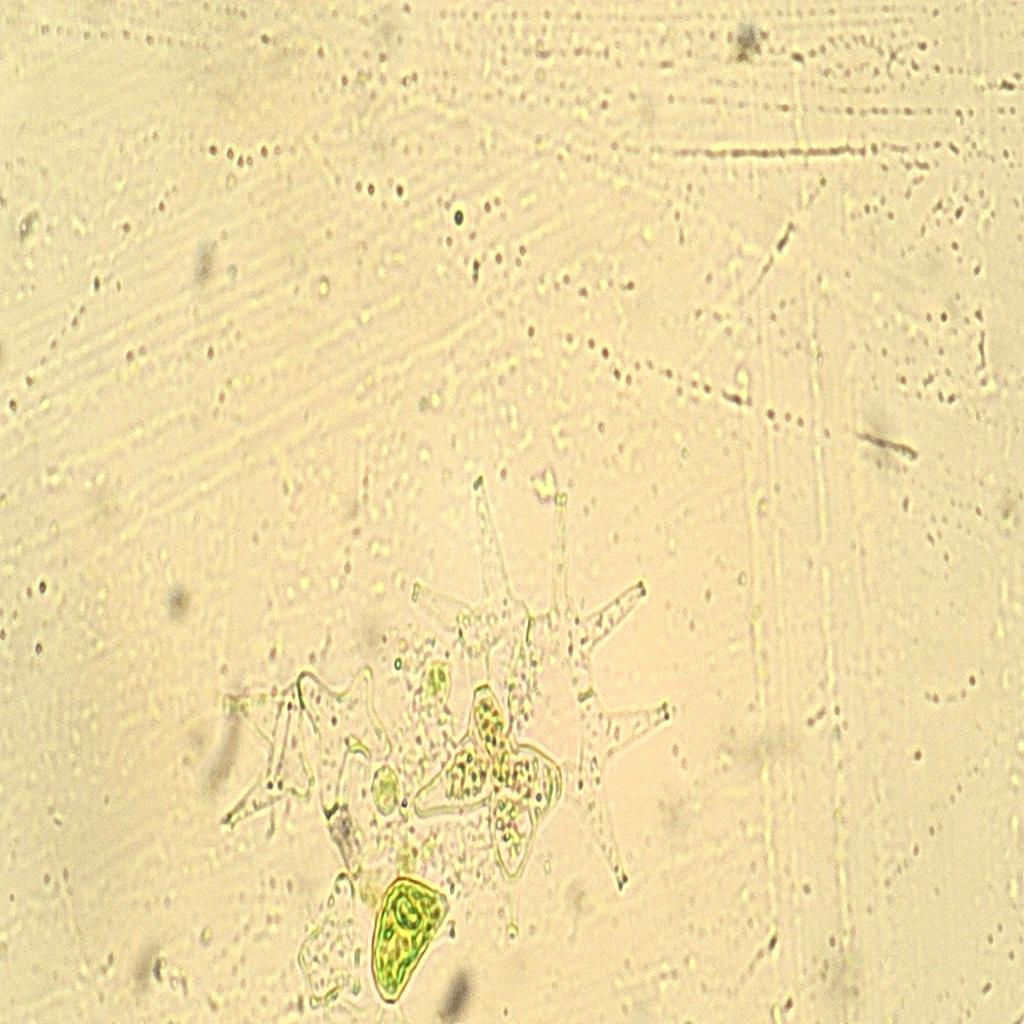Pediastrum_75TH: (386, 416, 688, 944)
